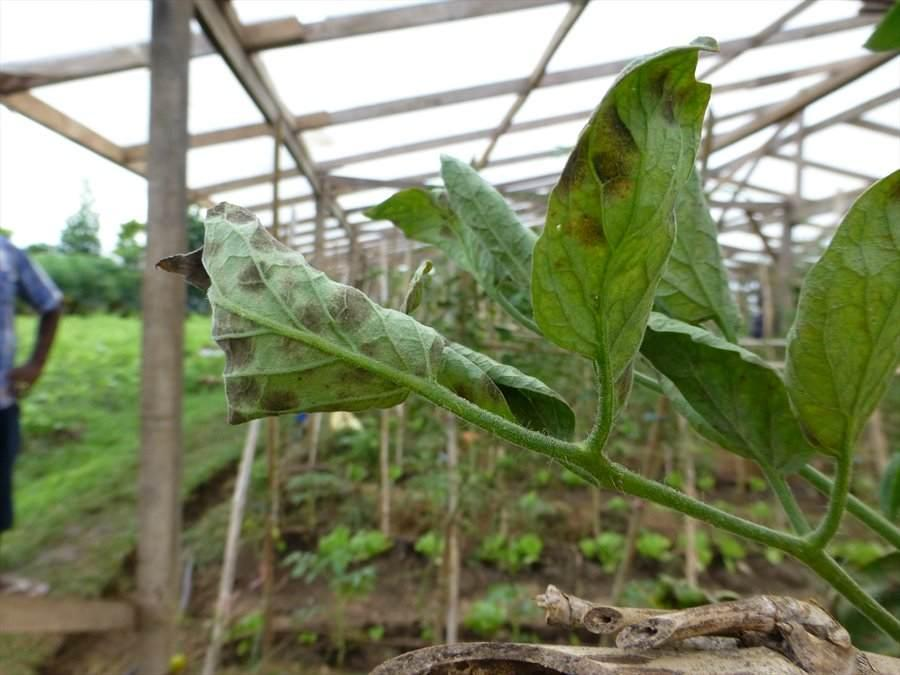Tomato mold leaf: (524, 9, 708, 381), (178, 202, 448, 437), (779, 154, 900, 451)
